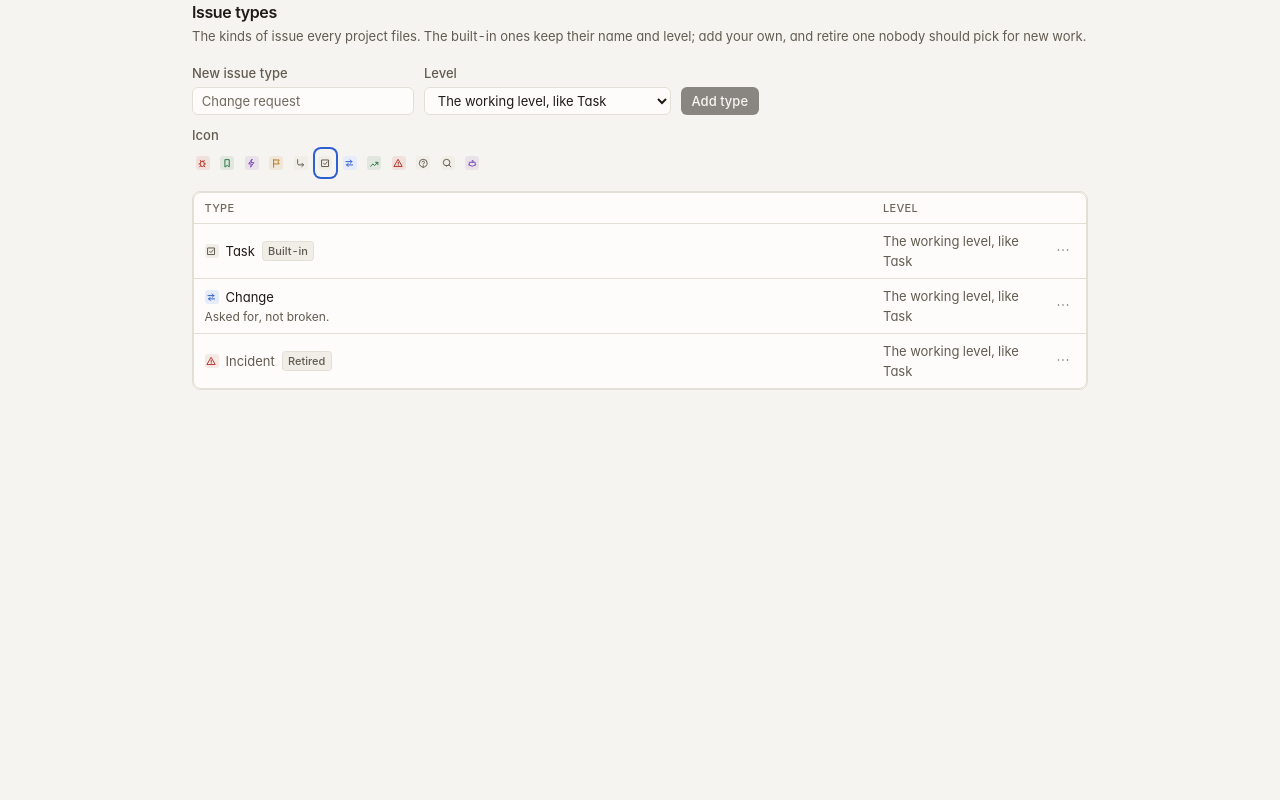
the issue types page › says why a type issues use cannot be deleted, and to retire it instead
Click the button named "Actions for Change". click: (1063, 305)
box: [1051,293,1076,318]
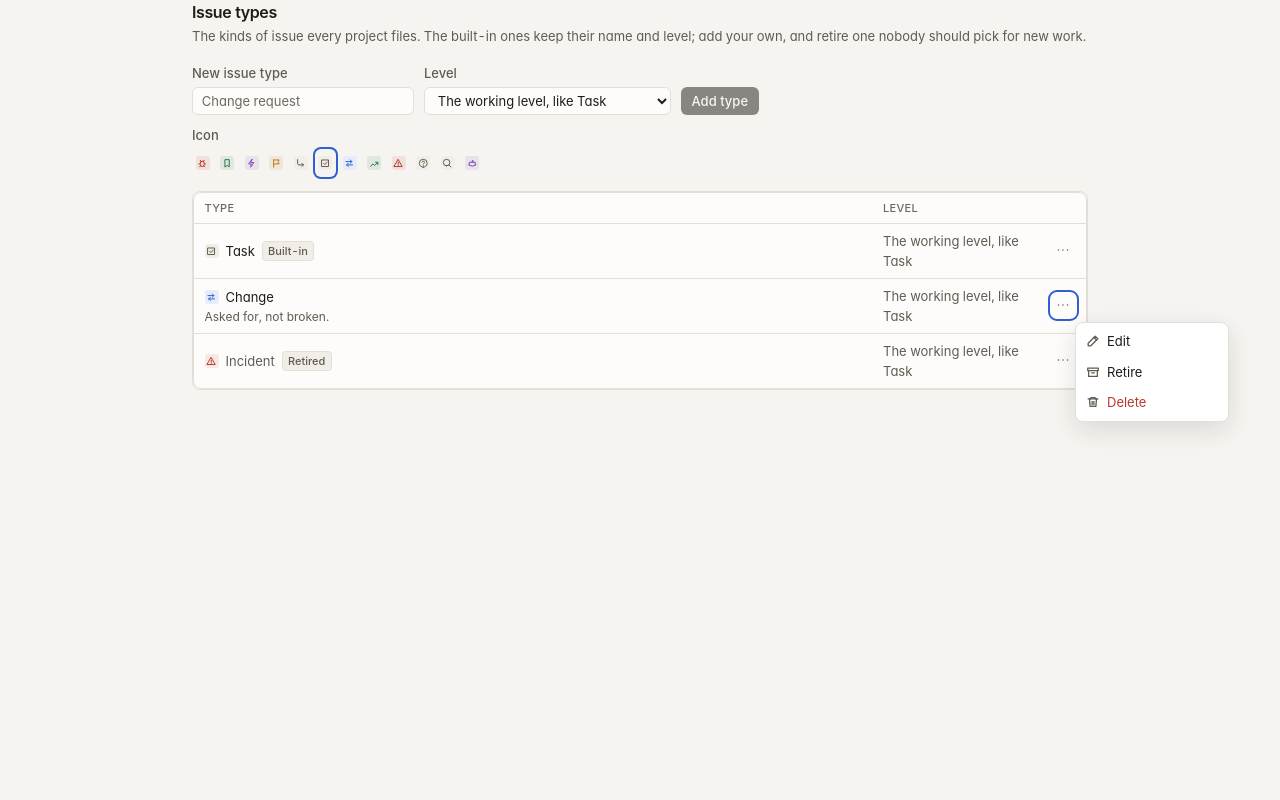
Click the menu item "Delete". click: (1152, 402)
box: [1079,387,1224,418]
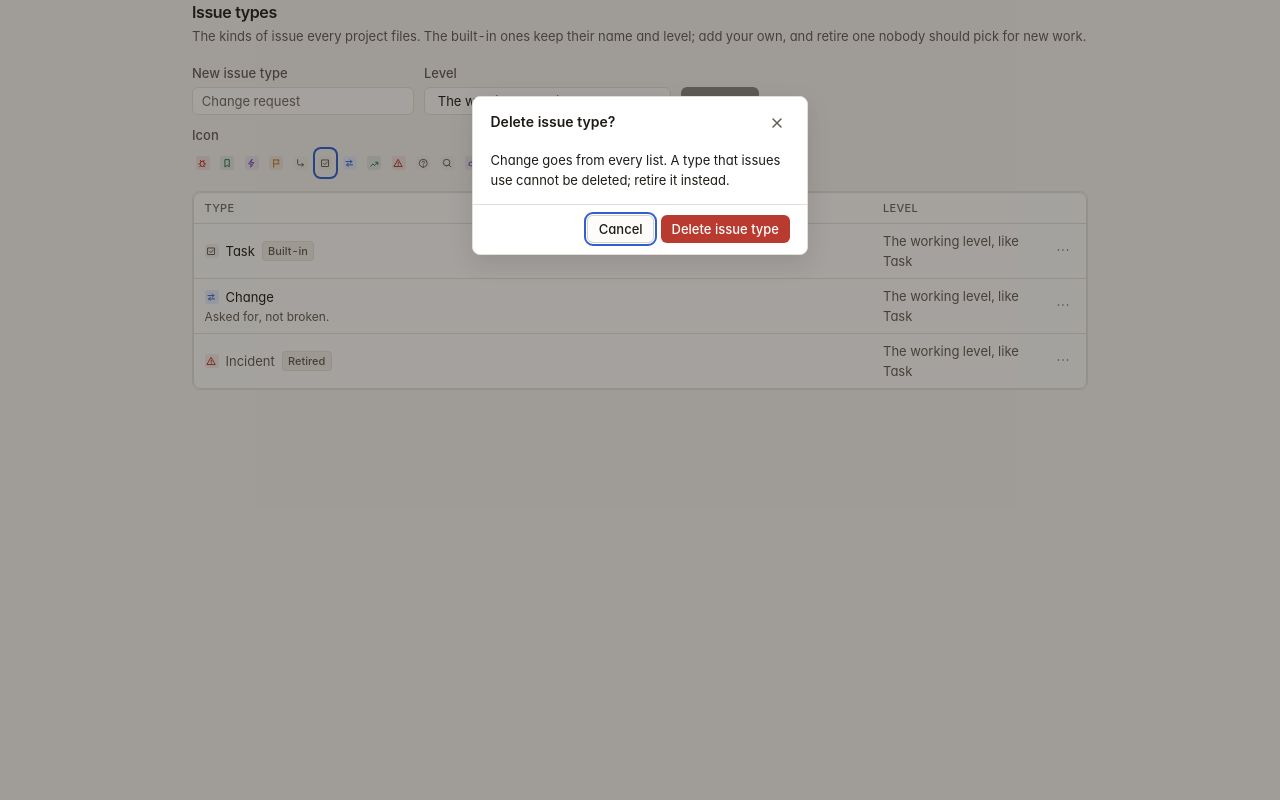
Click the button "Delete issue type". click: (725, 229)
box: [661,215,790,243]
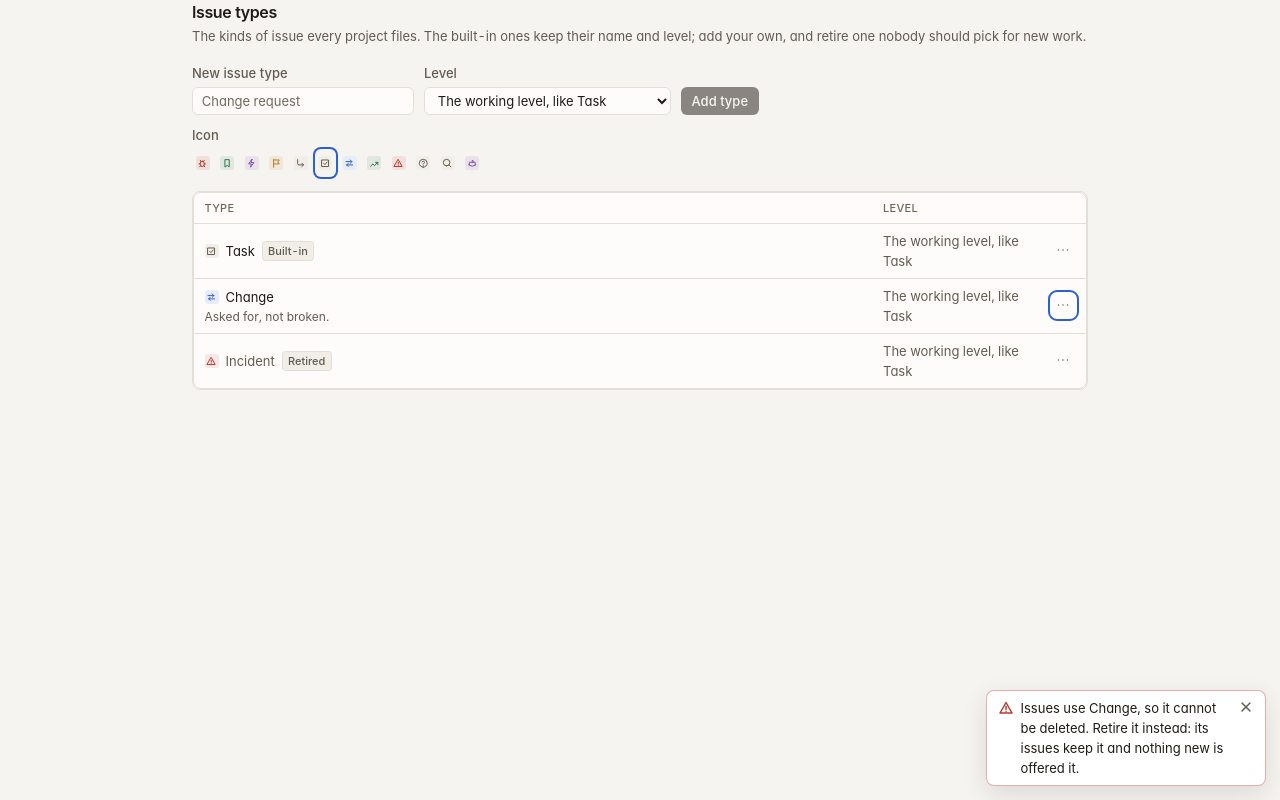
Expected: the text "Issues use Change, so it cannot be deleted. Retire it instead: its issues keep it and nothing new is offered it." is shown, [1020,700,1223,776]
